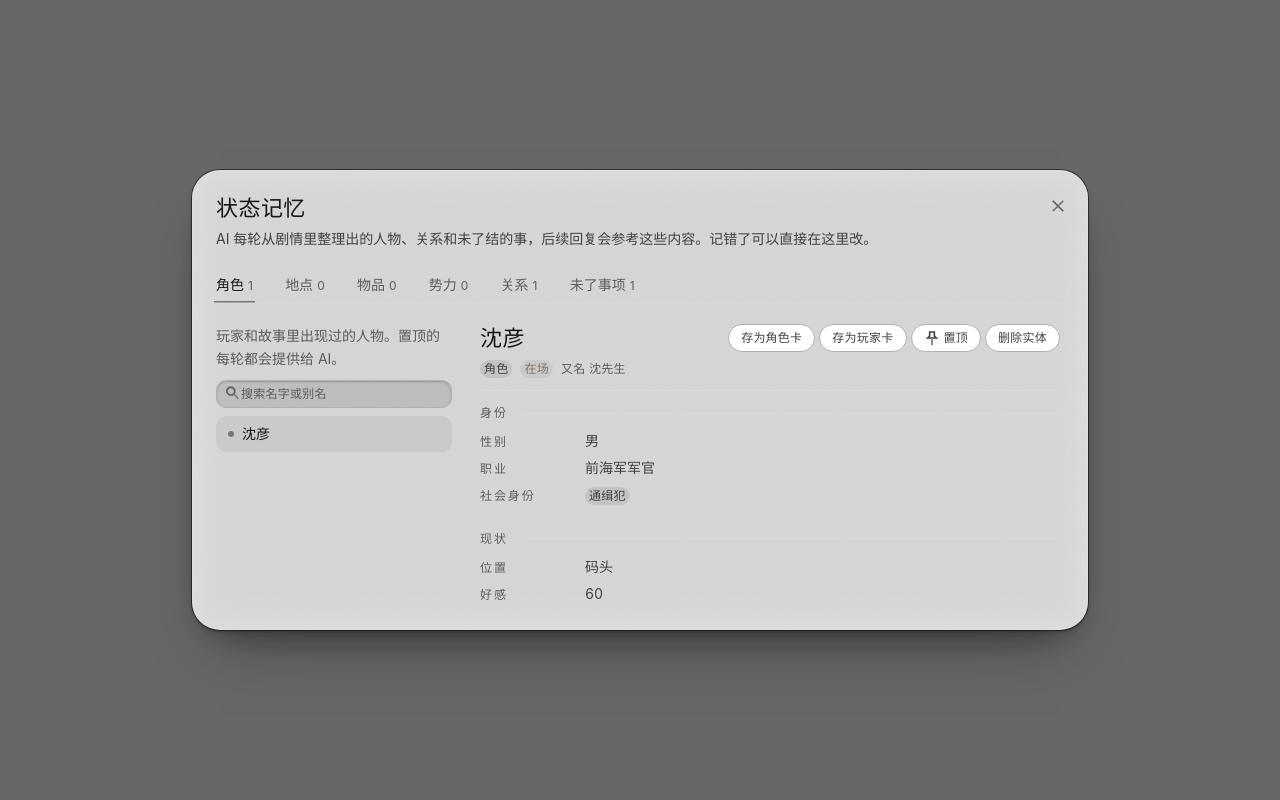
StateMemoryModal › 搜索按名字与别名过滤实体，无结果时提示
In the field named "搜索实体": {"x": 334, "y": 394} [216,380,452,408], type "沈先生"
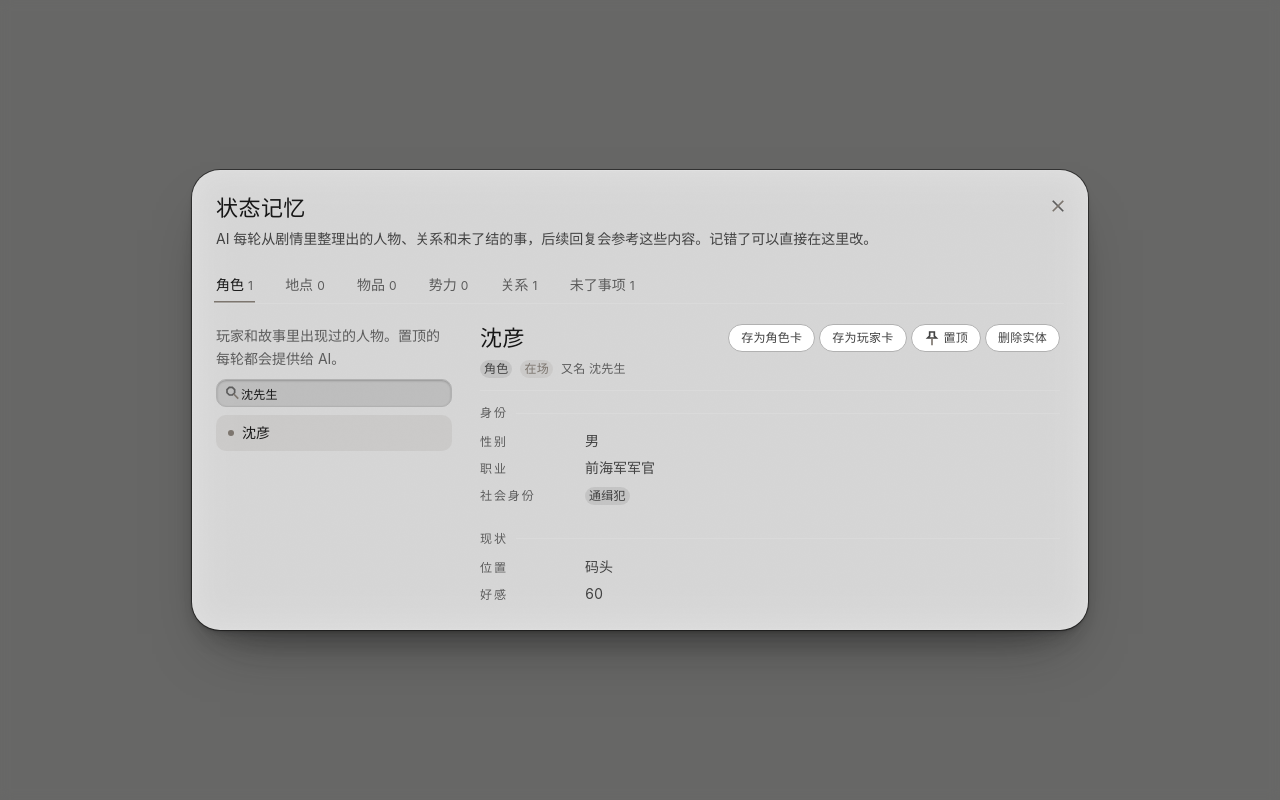
Expected: the text "沈彦" is shown, [242,424,270,441]
Replace the text in the field named "搜索实体" with "不存在": {"x": 334, "y": 393} [216,379,452,407]
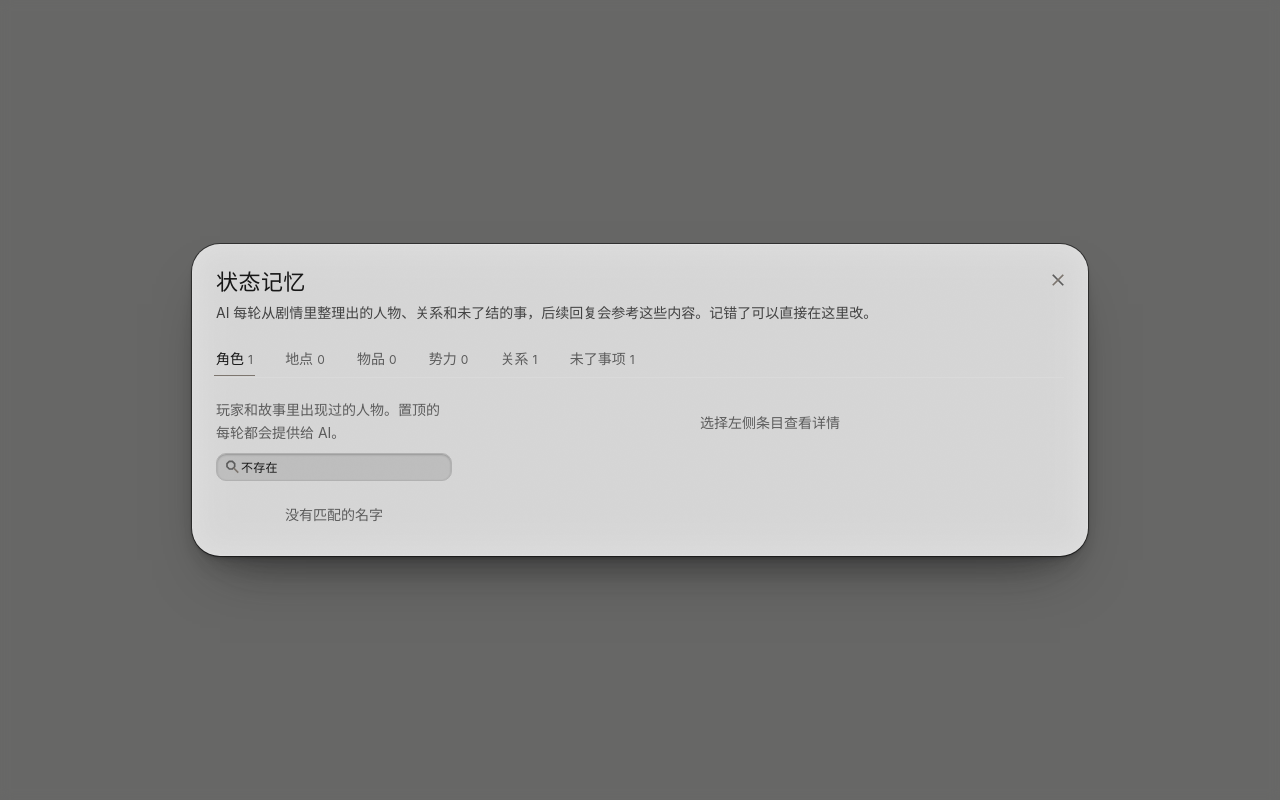
Expected: the text "没有匹配的名字" is shown, [285,505,383,524]
